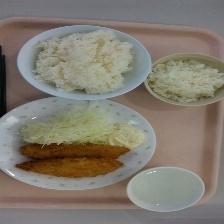rice: (33, 28, 135, 96)
